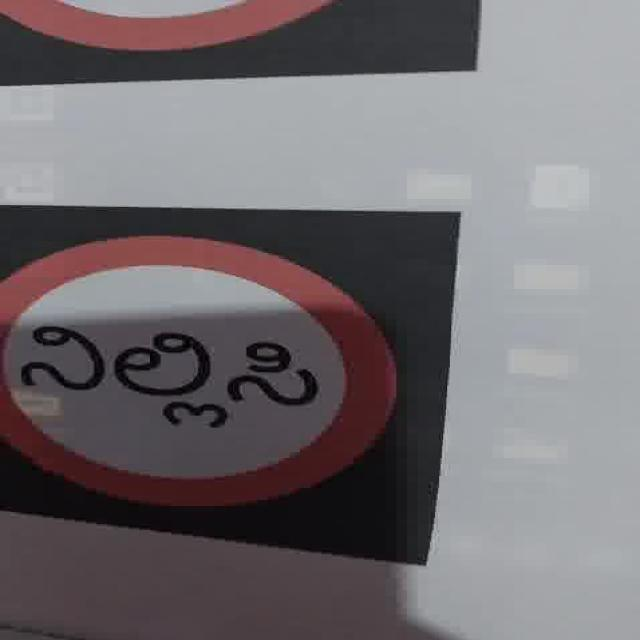kannadastop: (2, 205, 460, 565), (0, 0, 482, 86), (16, 322, 321, 428)
